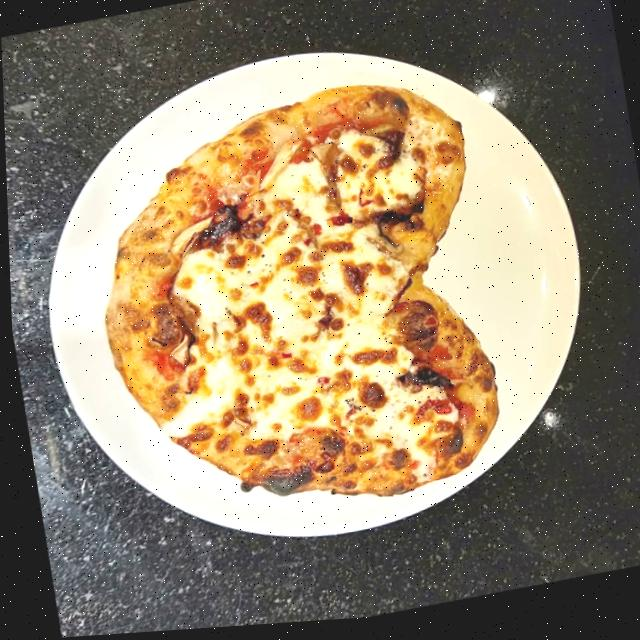pizza: (73, 70, 511, 545)
